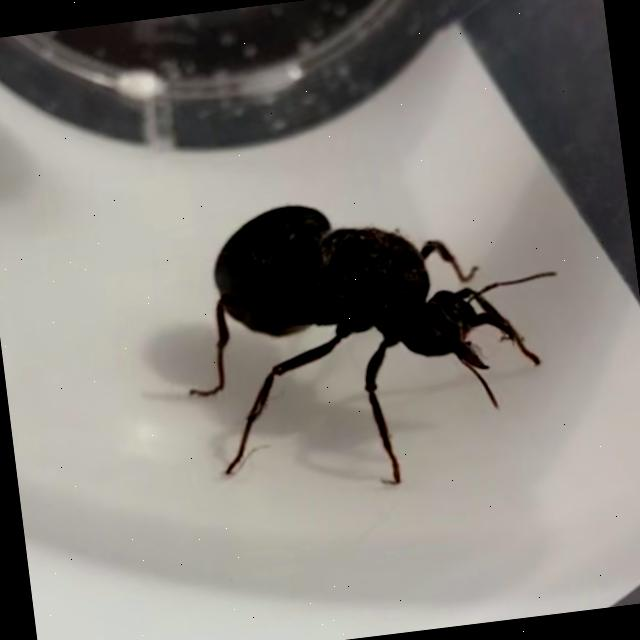Alive-Female-Dealate: (168, 173, 580, 507)
